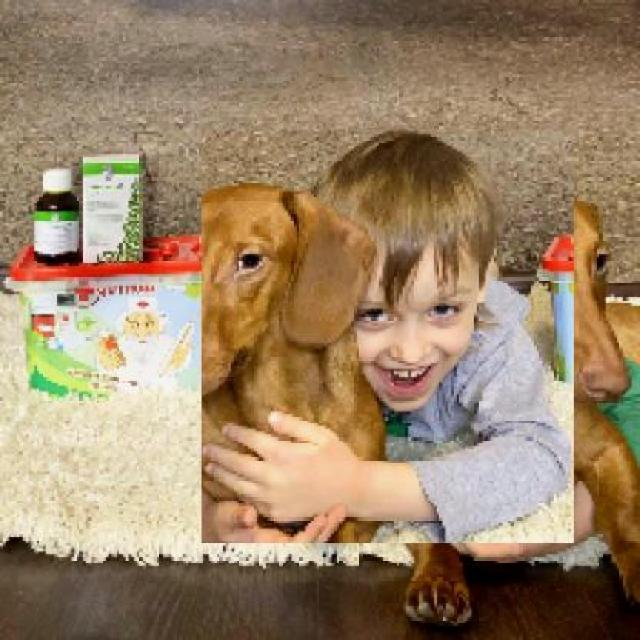child: (200, 128, 574, 546)
